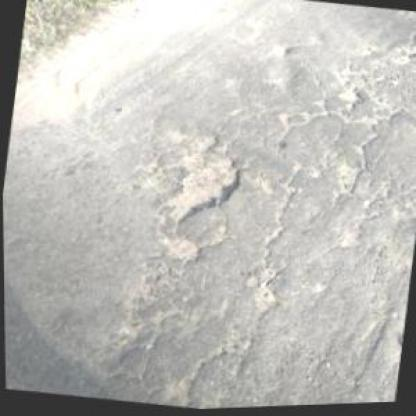pothole: (158, 148, 246, 232), (161, 233, 202, 266)
